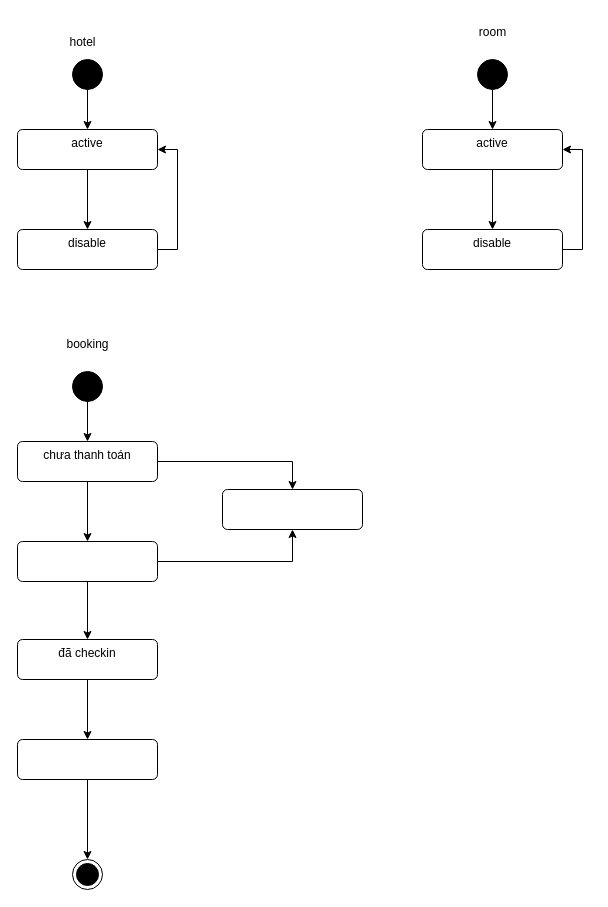
Some shapes in this 608 by 907 pixel diagram are drawn without their labels. The centre of each missing label's shape, as x and y in pixels:
"đã checkout" goes at (87,759).
"đã hủy" goes at (292,509).
"đã thanh toán" goes at (87,561).
